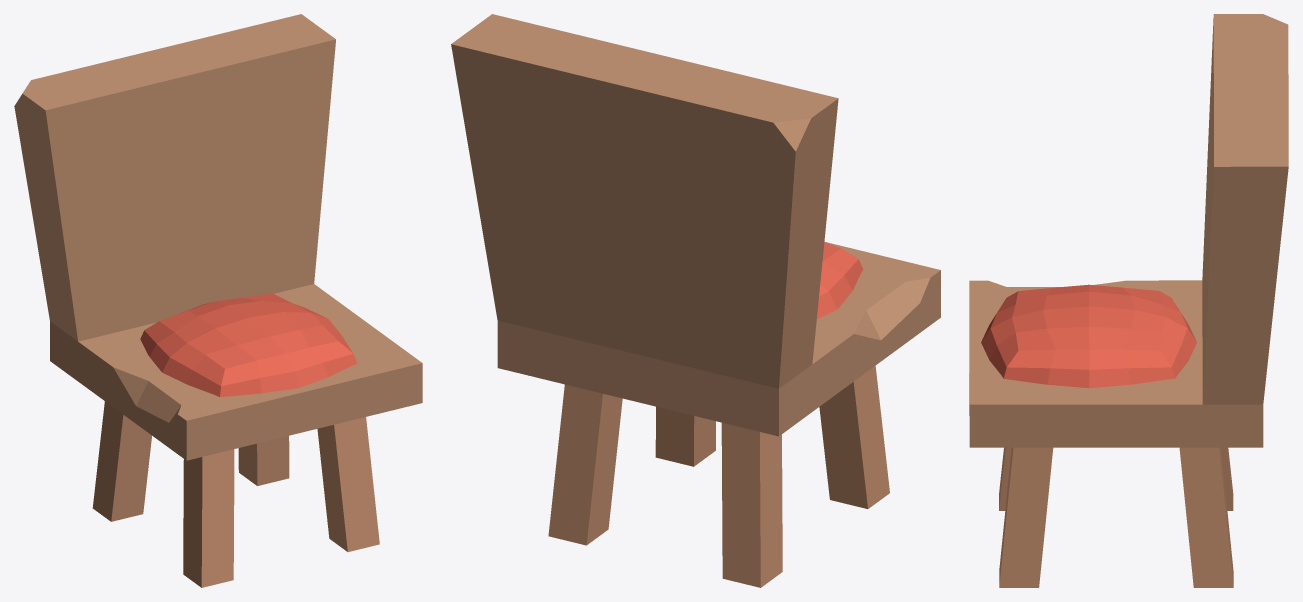
The model's file is chair.fbx.
3 renders of one model, left to right at view 1: azimuth 30°, elevation 25°; view 2: azimuth 150°, elevation 25°; view 3: azimuth 270°, elevation 25°, orthographic. The views are drawn at different scales.
Parts seen in each view (by area): view 1: Cube.066; view 2: Cube.066; view 3: Cube.066.
Part boxes in pixels (x1=…): Cube.066: x1=14, y1=14, x2=422, y2=587; Cube.066: x1=451, y1=14, x2=940, y2=587; Cube.066: x1=969, y1=14, x2=1288, y2=587.
Bounding box in the file's own units: 164 × 225 × 145.
